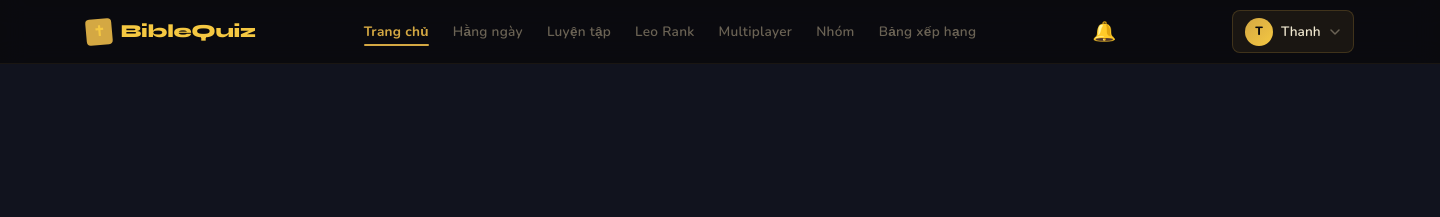
Scenario: Header › toggles notification dropdown on bell click
Click the button "🔔" at (1104, 31), box [1084,8,1124,55]
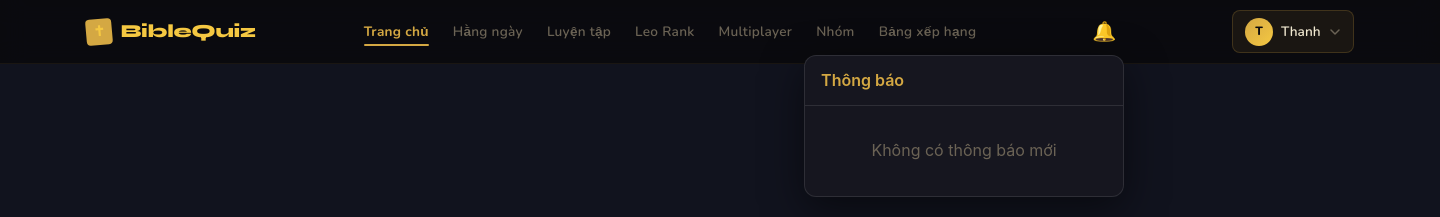
Expected: the text "Thông báo" is shown, [821,68,904,94]
Expected: the text "Không có thông báo mới" is shown, [871,140,1057,160]
